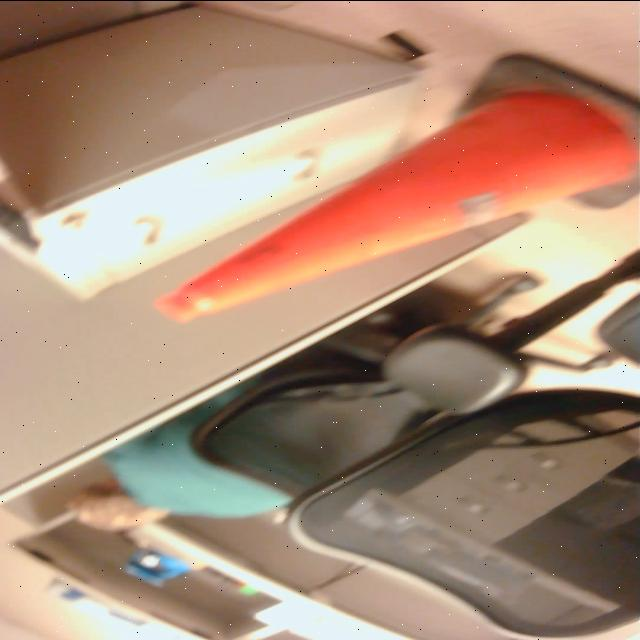traffic cone: (151, 49, 640, 326)
